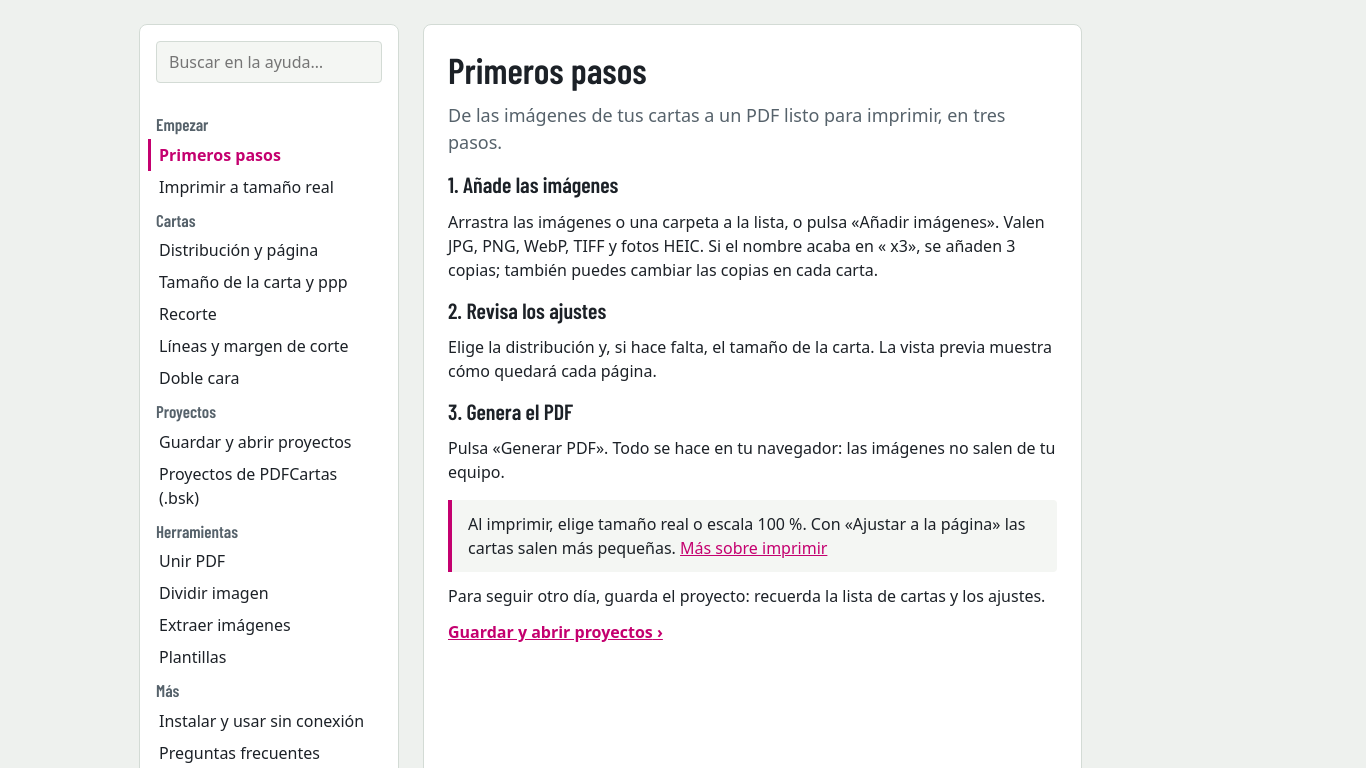
Test: Ayuda › la búsqueda filtra el índice y anuncia los resultados
expect the text "en tres pasos" is shown: met, box [448, 103, 1006, 154]
Type "sangrado" into the search field labelled "Buscar en la ayuda" at (269, 62), box [156, 41, 382, 83]
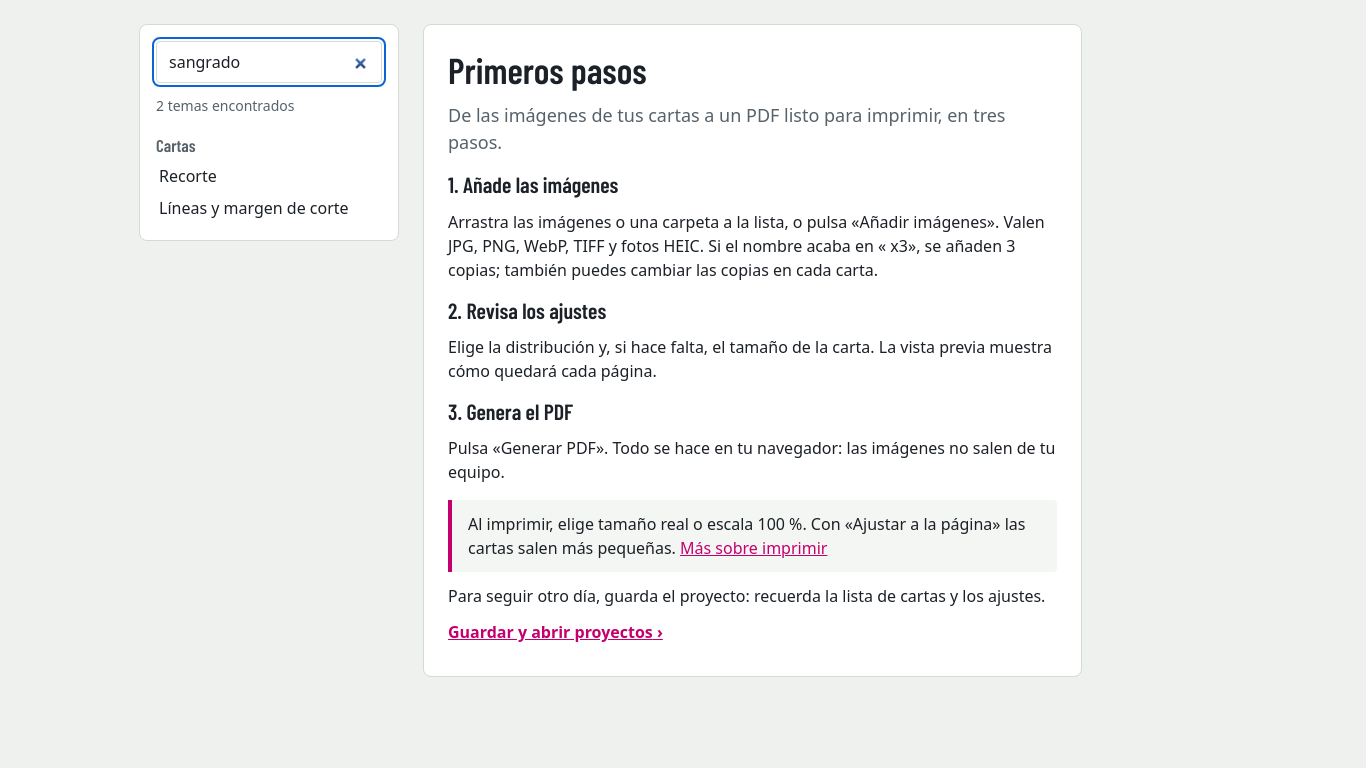
expect the link "Líneas y margen de corte" is shown: met, box [159, 196, 349, 218]
expect the link "Unir PDF" is gone: met
Replace the text in the search field named "Buscar en la ayuda" with "xyzzy" at (269, 62), box [156, 41, 382, 83]
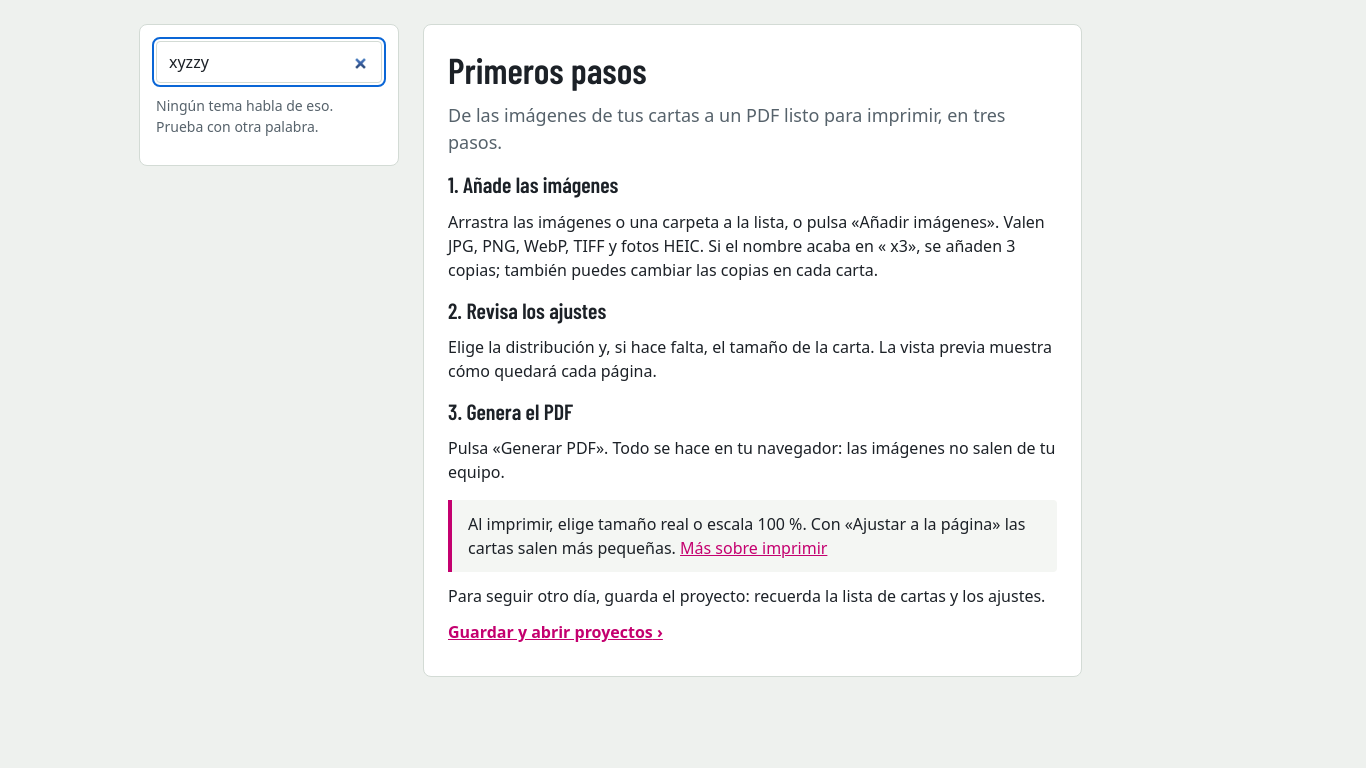
expect the text "Ningún tema habla de eso. Prueba con otra palabra." is shown: met, box [156, 96, 333, 136]
expect no the link "Primeros pasos" are shown: met
